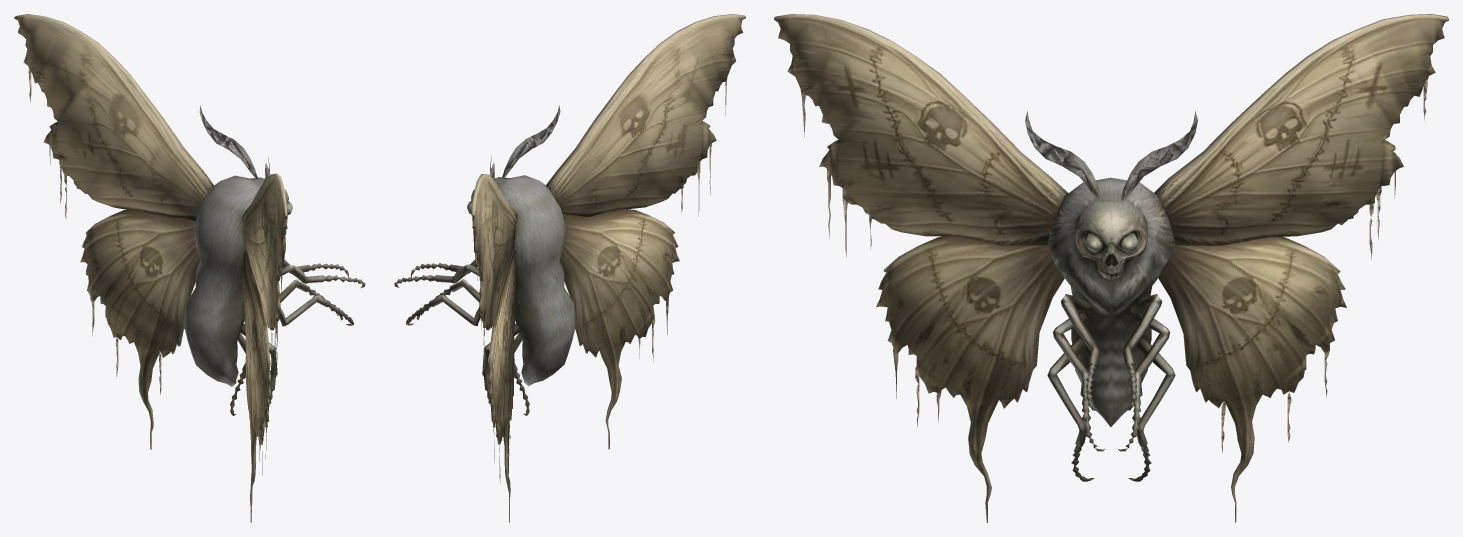
Rendered from shroud_moth.glb.
The picture shows the model from 3 angles, left to right: view 1: azimuth 30°, elevation 25°; view 2: azimuth 150°, elevation 25°; view 3: azimuth 270°, elevation 25°; orthographic projection. The views are drawn at different scales.
Parts seen in each view (by area): view 1: tripo_node_2df6b711-fc8e-414a-ad1c-2a9eb38d8467; view 2: tripo_node_2df6b711-fc8e-414a-ad1c-2a9eb38d8467; view 3: tripo_node_2df6b711-fc8e-414a-ad1c-2a9eb38d8467.
Boxes of the visible parts, x1=… form: tripo_node_2df6b711-fc8e-414a-ad1c-2a9eb38d8467: x1=14, y1=14, x2=365, y2=522; tripo_node_2df6b711-fc8e-414a-ad1c-2a9eb38d8467: x1=394, y1=14, x2=745, y2=522; tripo_node_2df6b711-fc8e-414a-ad1c-2a9eb38d8467: x1=774, y1=14, x2=1448, y2=522.
Size of the model in its own units: 0.4395 by 0.791 by 0.998.
1 material, 1 textured.
